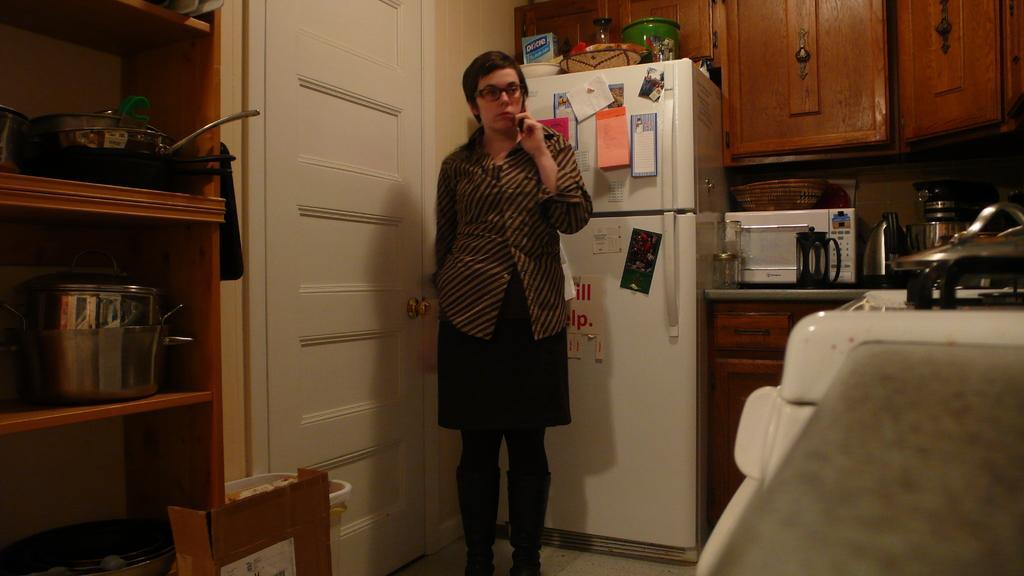door: (268, 2, 430, 530)
handle: (396, 286, 433, 326)
